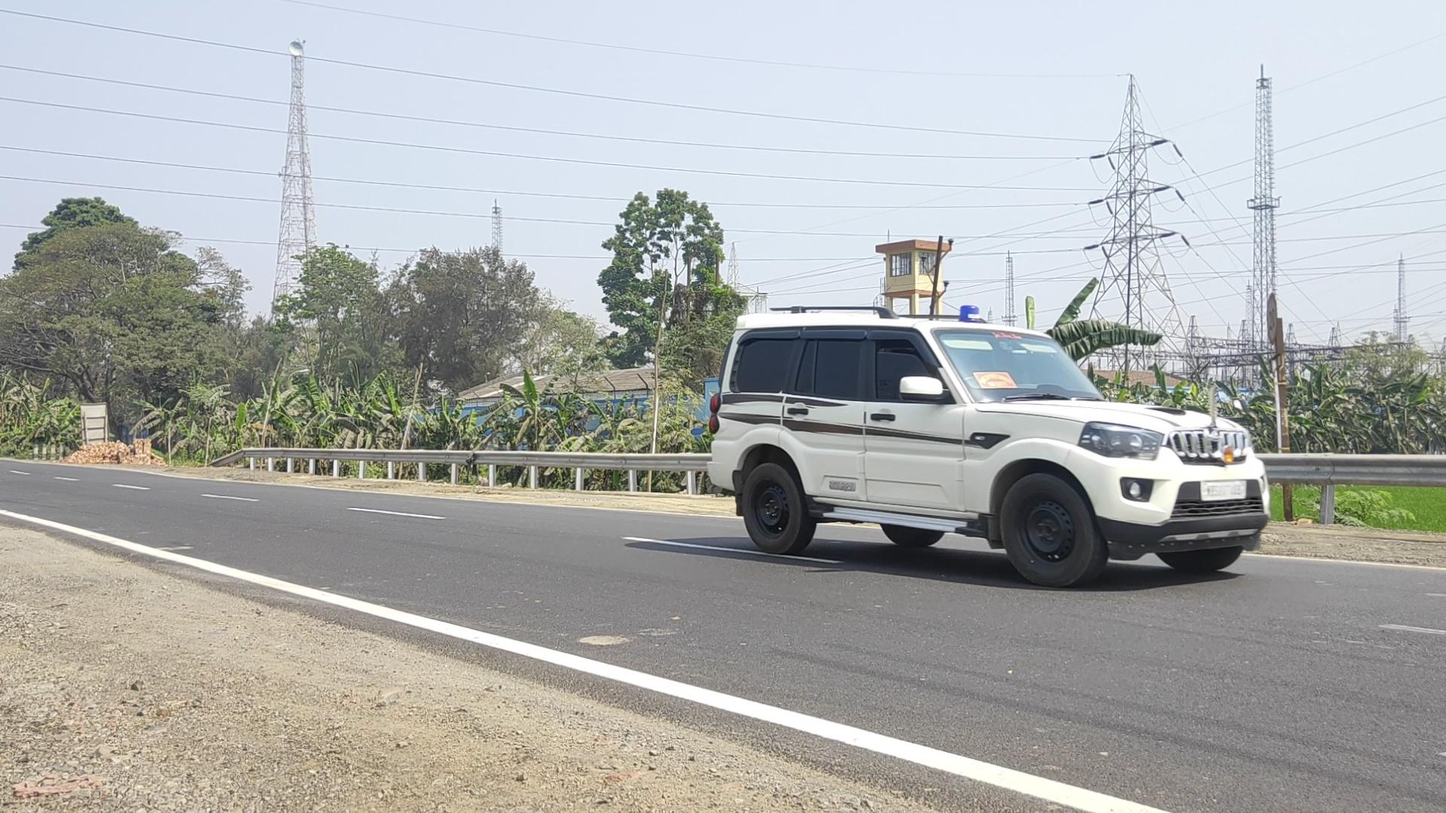car: (709, 305, 1270, 589)
